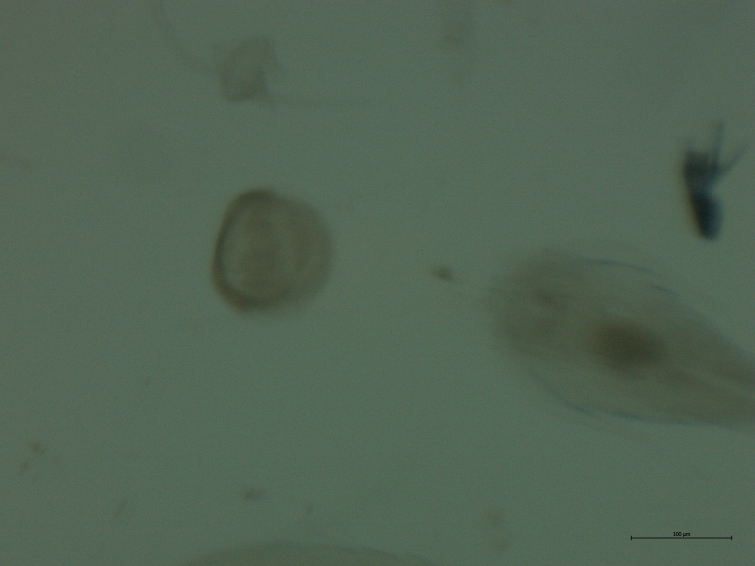oyster: (205, 179, 341, 332)
